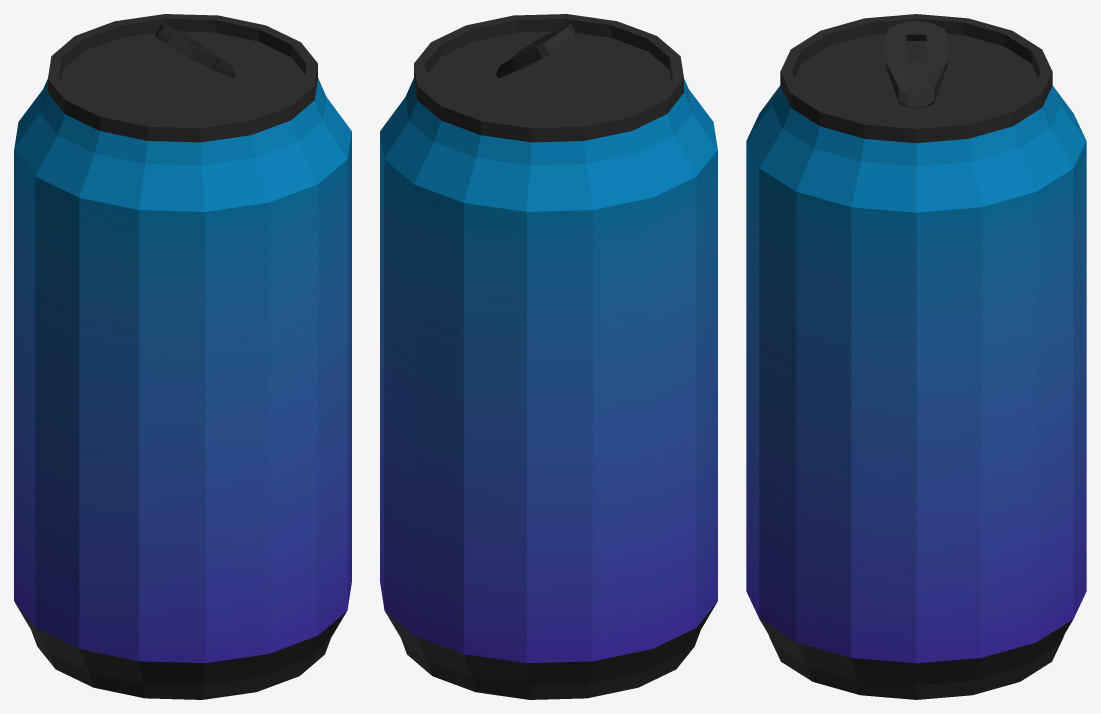
The model's file is MS_Soda_Can.fbx.
3 views of the same model, side by side, from view 1: azimuth 30°, elevation 25°; view 2: azimuth 150°, elevation 25°; view 3: azimuth 270°, elevation 25° (orthographic).
Visible parts, largest first — view 1: MS_Soda_Can; view 2: MS_Soda_Can; view 3: MS_Soda_Can.
Boxes of the visible parts, x1,y1,x2,y2 form: MS_Soda_Can: (14, 14, 351, 699); MS_Soda_Can: (380, 14, 717, 699); MS_Soda_Can: (746, 14, 1086, 699).
Bounding box in the file's own units: 6.5 × 12.86 × 6.5.
